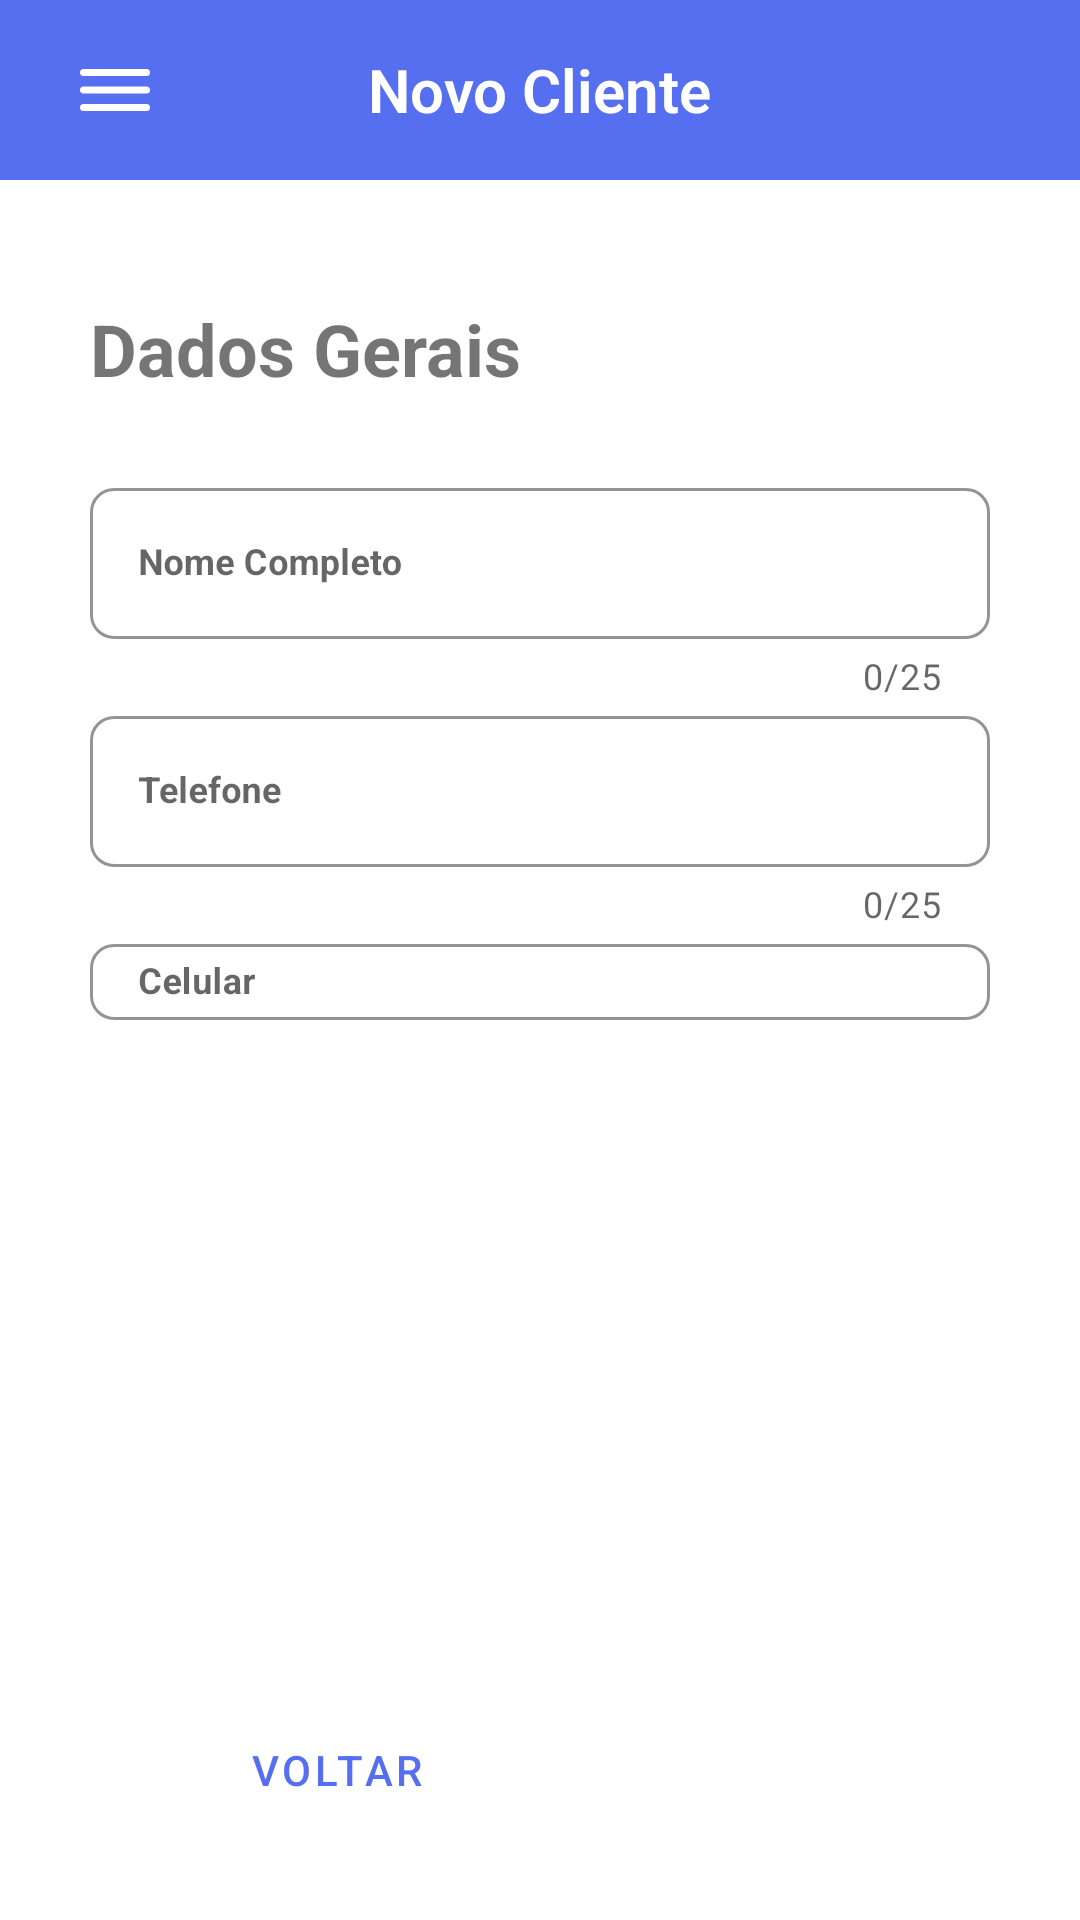

Icons on this 1080 x 1920 Android screen, each with the point to tap as point (x, y):
hamburger lg: point (115, 90)
